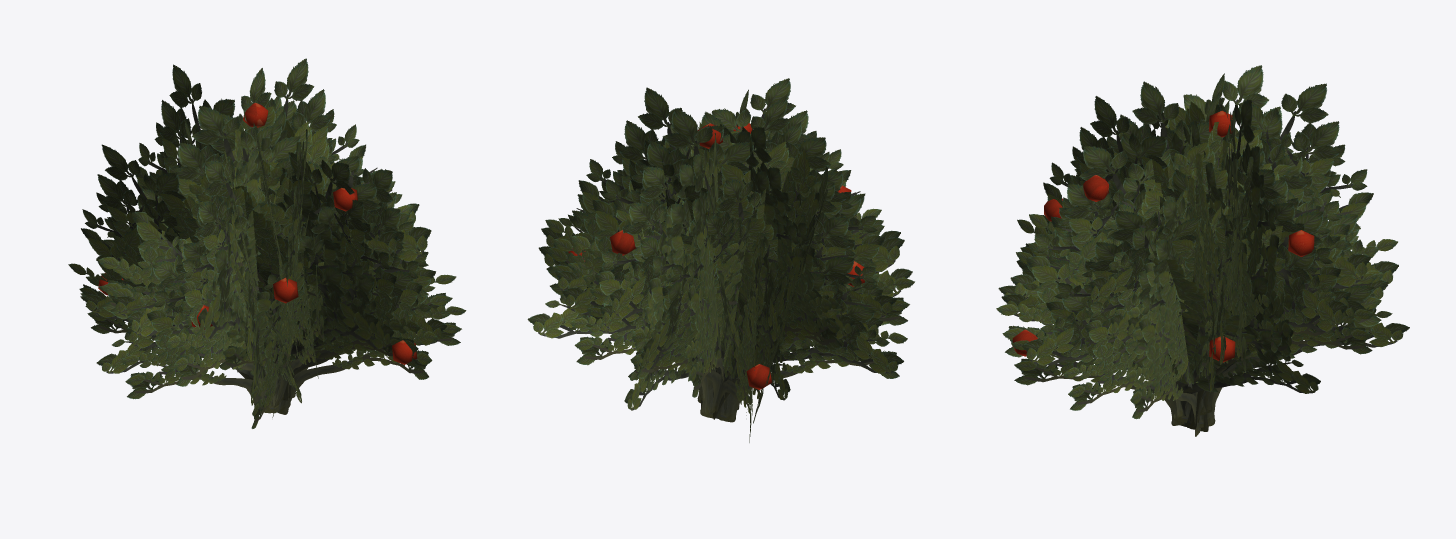
The model's file is shared_bush_berry_02.fbx.
The picture shows the model from 3 angles, left to right: view 1: azimuth 30°, elevation 25°; view 2: azimuth 150°, elevation 25°; view 3: azimuth 270°, elevation 25°; orthographic projection. The views are drawn at different scales.
Parts seen in each view (by area): view 1: shared_bush_berry_02; view 2: shared_bush_berry_02; view 3: shared_bush_berry_02.
Part boxes in pixels (x1,y1,x2,y2): shared_bush_berry_02: (68,58,466,428); shared_bush_berry_02: (527,78,914,442); shared_bush_berry_02: (996,65,1409,436).
Bounding box in the file's own units: 1.53 × 1.47 × 1.53.
